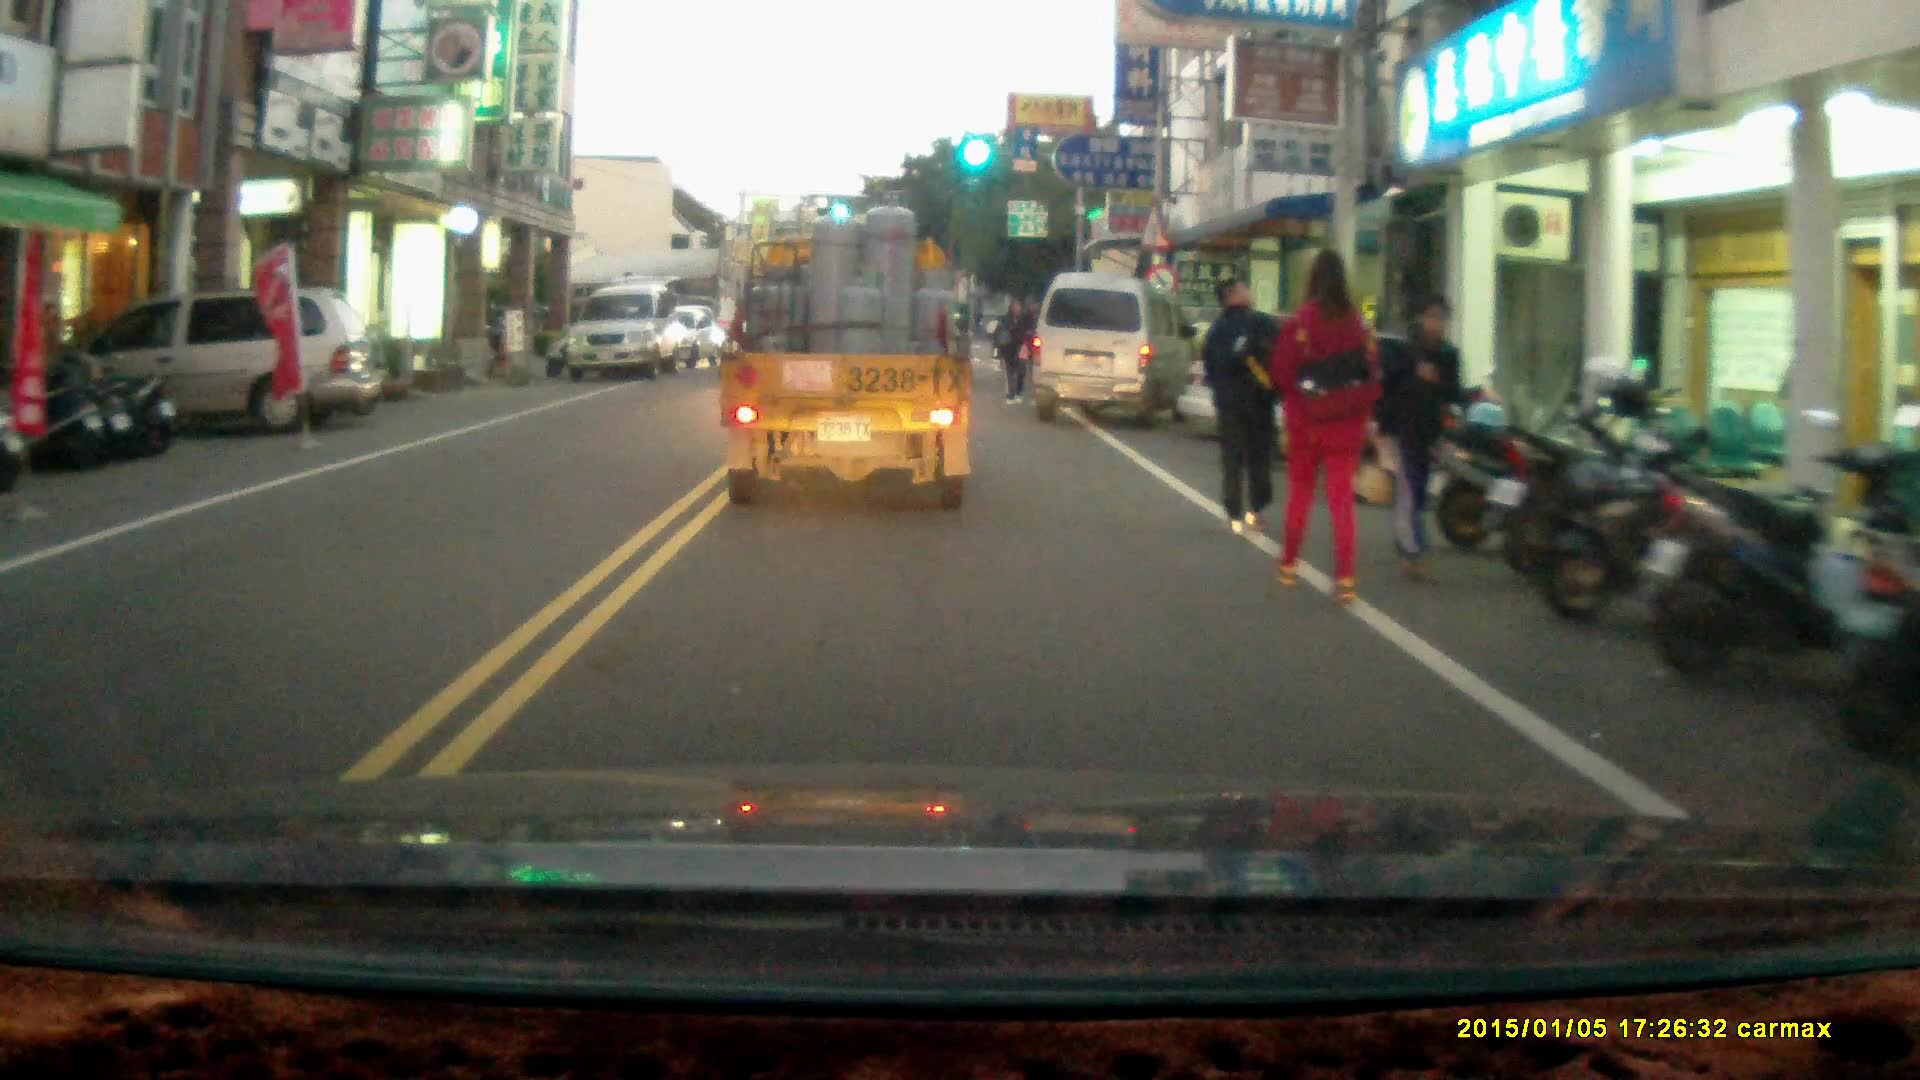pedestrian: (1267, 239, 1376, 606), (1378, 293, 1466, 585), (1199, 272, 1293, 539), (996, 297, 1031, 405)
vehicle: (713, 182, 982, 517), (61, 286, 387, 437), (1032, 269, 1191, 423), (572, 281, 694, 383)
